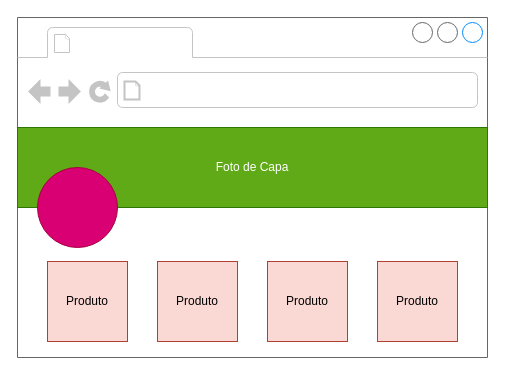
The diagram is 505 pixels wide and 375 high, and some of its shapes have lost their labels. The box of each missing label's shape, as (x1, y1, x2, y2) in pixels:
https://www.ecommercecamisetas.com: (146, 76, 398, 104)
Logo da loja: (36, 166, 118, 248)
Minha Loja: (76, 28, 188, 56)
